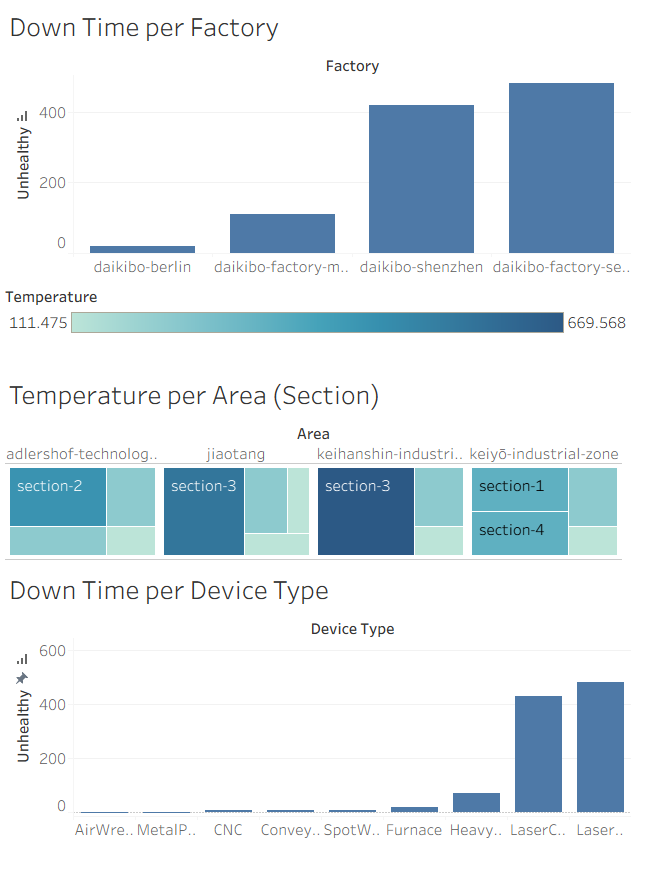

The page's visual inventory and layout, read from the dashboard file:
{"tool":"tableau","page":{"name":"Dashboard 1","canvas":[650,860],"ordinal":0},"visuals":[{"type":"worksheet","title":"Down Time per Factory","mark":"Automatic","rows":["Calculation_0905763471638528"],"cols":["factory"],"box":[8,8.9,634,280.6]},{"type":"legend","title":"Temperature per Area (Section)","param":"[federated.1etdn7002y7wl317wlvsl0z3lihy].[sum:temperature:qk]","box":[8,289.6,634,86.4]},{"type":"worksheet","title":"Temperature per Area (Section)","mark":"Automatic","cols":["area"],"box":[8,376,634,194.4]},{"type":"worksheet","title":"Down Time per Device Type","mark":"Automatic","rows":["Calculation_0905763471638528"],"cols":["deviceType"],"box":[8,570.3,634,280.8]}]}

Visuals, with their boxes in screenshot pixels (x1, y1, x2, y2), scaled from the page's 650x860 canvas onto the 647x870 screenshot:
"Down Time per Factory" worksheet: bbox(8, 9, 639, 293)
"Temperature per Area (Section)" legend: bbox(8, 293, 639, 380)
"Temperature per Area (Section)" worksheet: bbox(8, 380, 639, 577)
"Down Time per Device Type" worksheet: bbox(8, 577, 639, 861)
